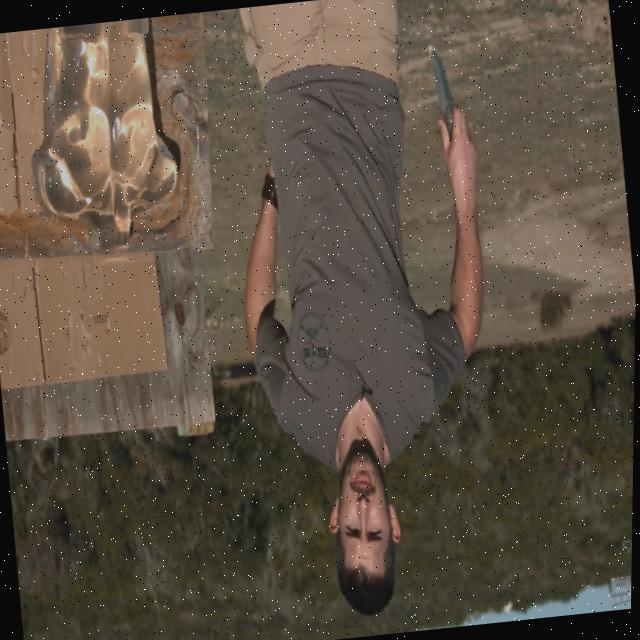knife: (426, 40, 456, 132)
